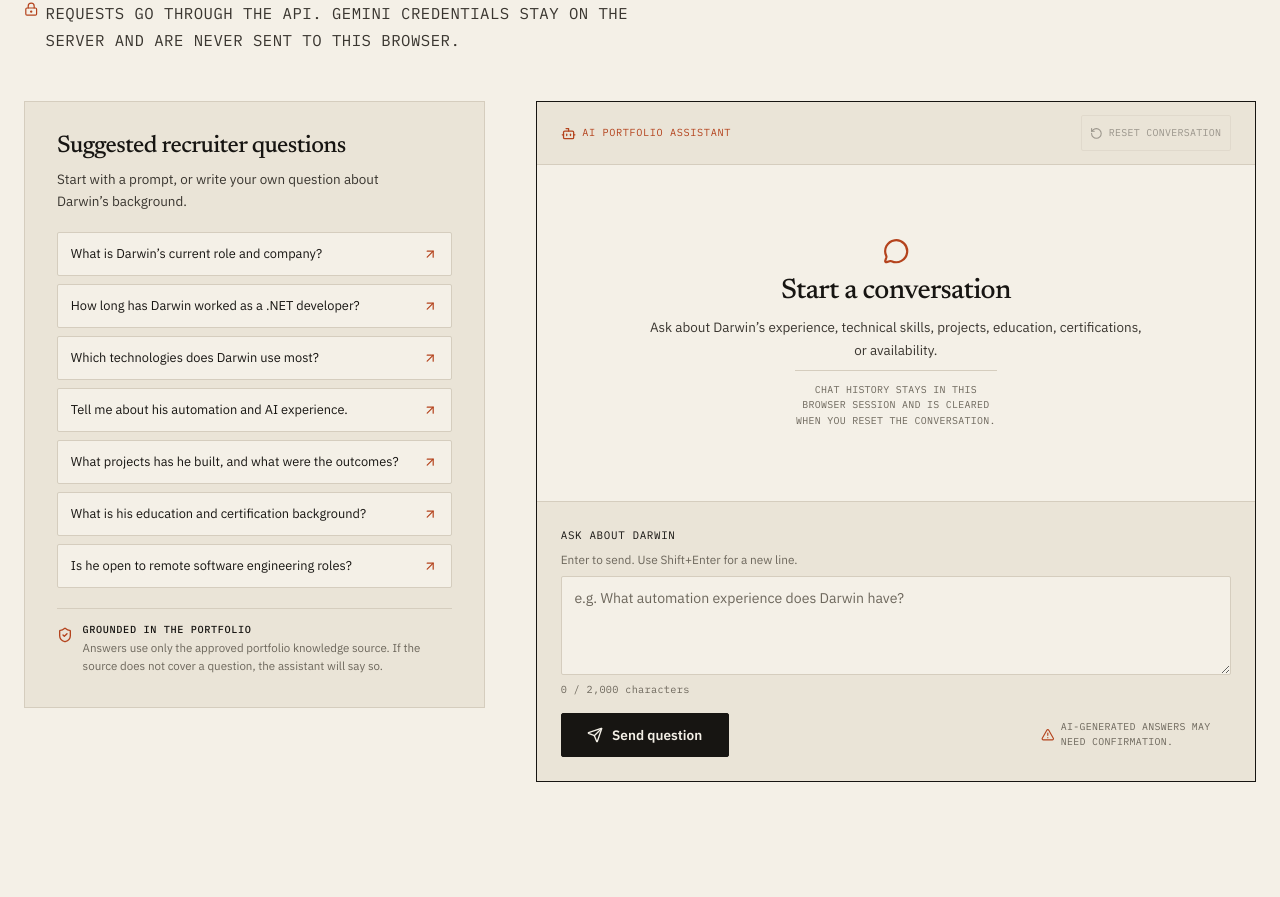
PortfolioAssistantSection › marks answers that fall outside the portfolio knowledge base
The image size is (1280, 897).
(page scrolled)
Step 1. Type "What is Darwin’s favorite food?" into the text box with id "assistant-question" → (896, 625), box [561,576,1231,675]
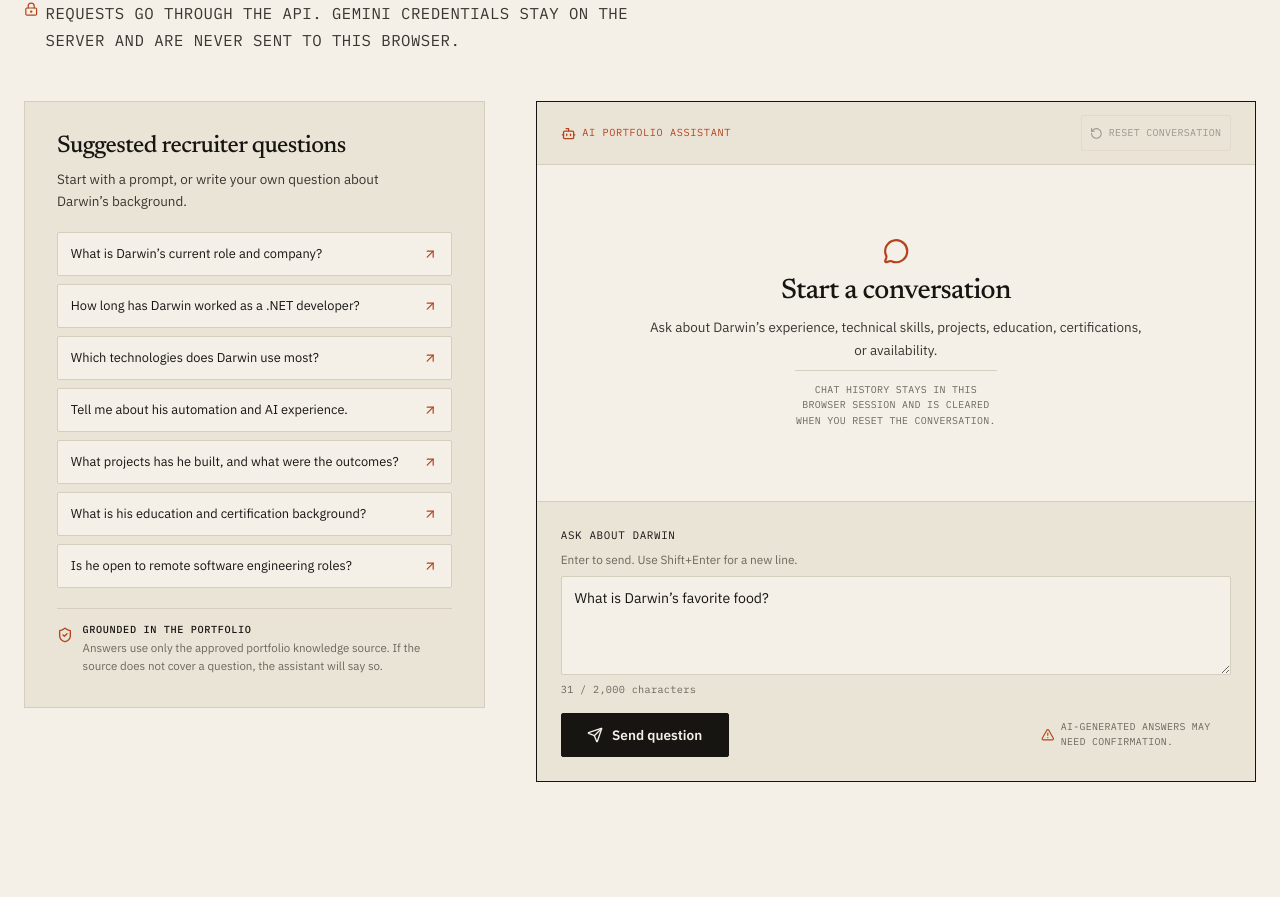
Step 2. Submit the form, box [537,501,1255,781]
(page scrolled)
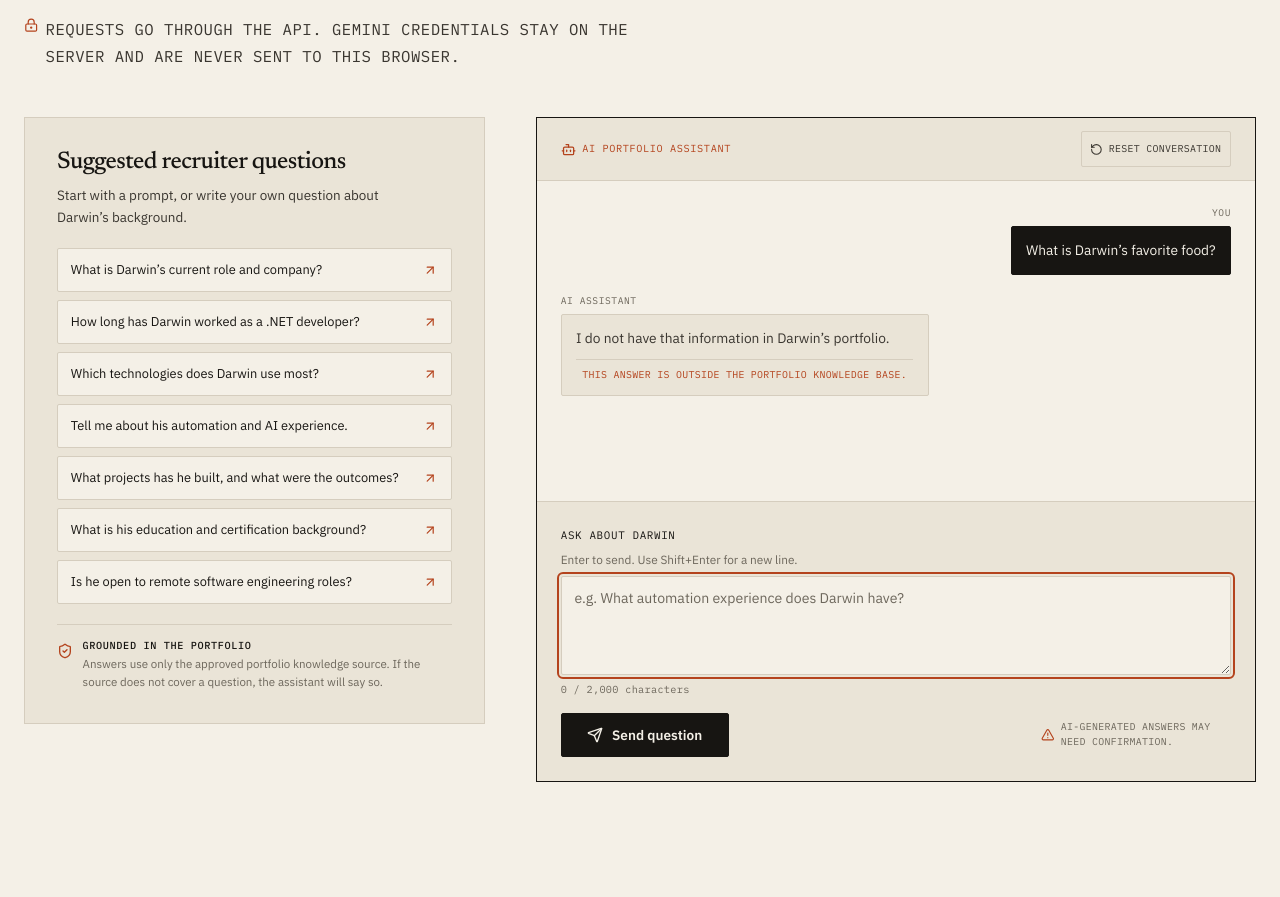
Check: the text with class "assistant__not-found" shows "outside the portfolio knowledge base", box [576,368,913,381]
